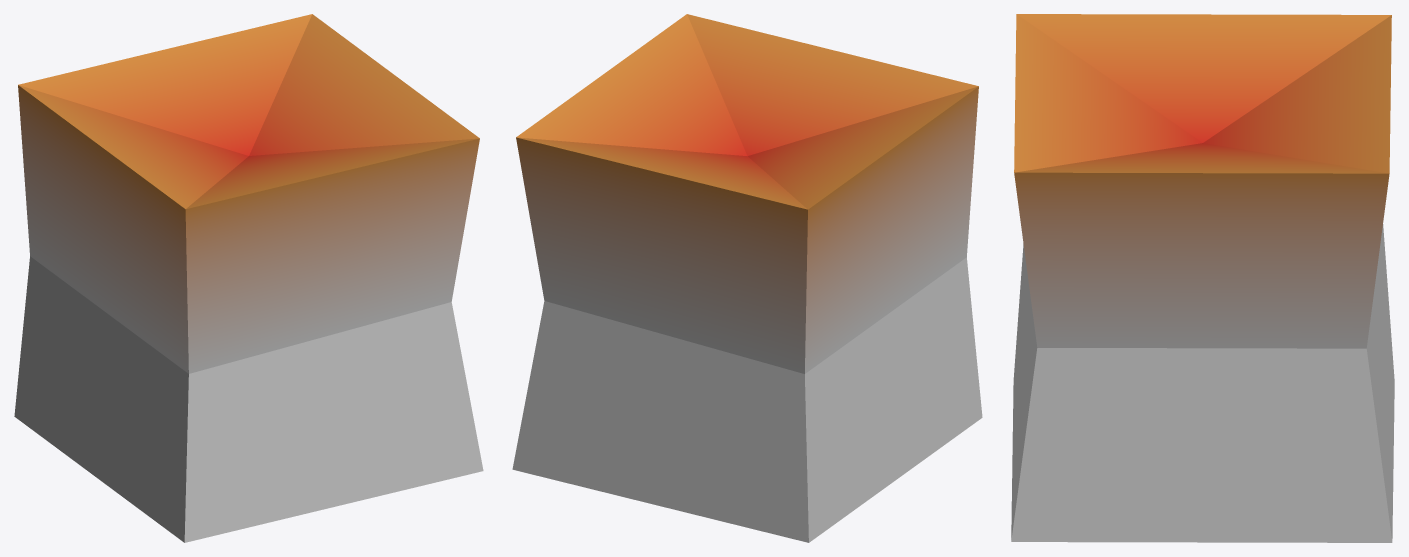
Rendered from brazierPillar_squat_lit.fbx.
The picture shows the model from 3 angles, left to right: view 1: azimuth 30°, elevation 25°; view 2: azimuth 150°, elevation 25°; view 3: azimuth 270°, elevation 25°; orthographic projection. The views are drawn at different scales.
Parts seen in each view (by area): view 1: Brazier_Squat; view 2: Brazier_Squat; view 3: Brazier_Squat.
Boxes of the visible parts, box(x1,y1,x2,y2) form: Brazier_Squat: box(14, 14, 483, 542); Brazier_Squat: box(512, 14, 982, 542); Brazier_Squat: box(1011, 14, 1394, 542).
Bounding box in the file's own units: 301 × 319 × 301.
